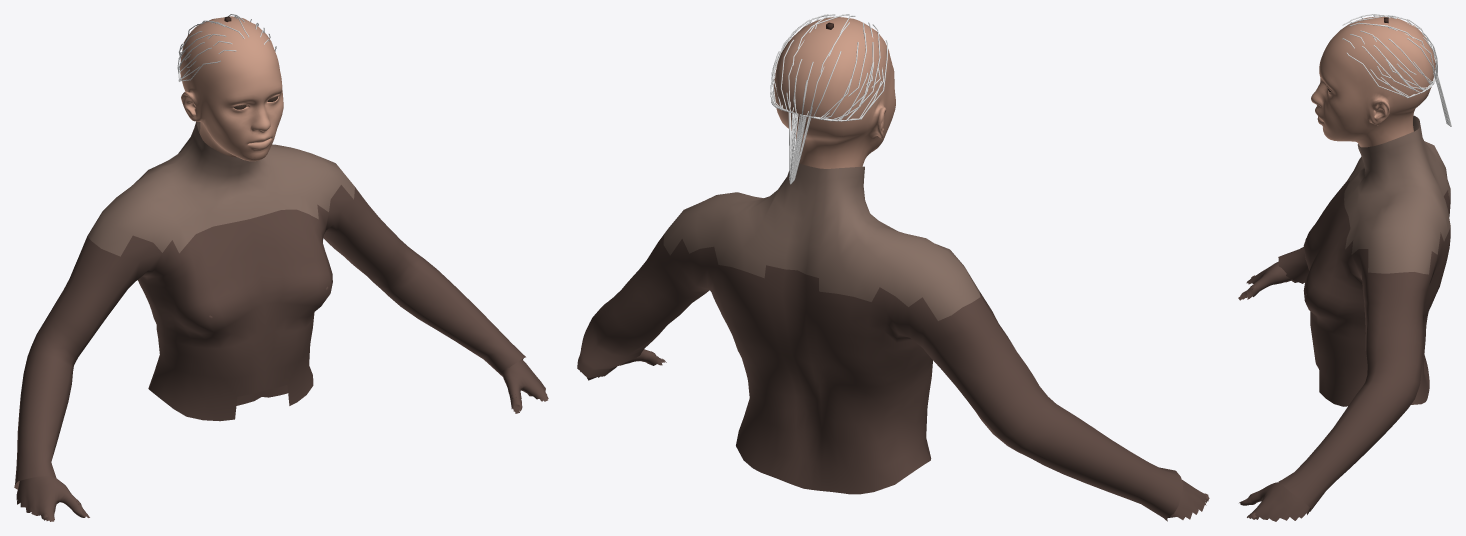
File: avatar_V009_DIAGNOSTICO_20261031.glb
3 renders of one model, left to right at view 1: azimuth 30°, elevation 25°; view 2: azimuth 150°, elevation 25°; view 3: azimuth 270°, elevation 25°, orthographic. The views are drawn at different scales.
Visible parts, largest first — view 1: ARCHIVISTA_NUOVO_RIFERIMENTO_V49, V009_GUIDE_DIAGNOSTIC; view 2: ARCHIVISTA_NUOVO_RIFERIMENTO_V49, V009_GUIDE_DIAGNOSTIC; view 3: ARCHIVISTA_NUOVO_RIFERIMENTO_V49, V009_GUIDE_DIAGNOSTIC.
Part boxes in pixels (x1,y1,x2,y2): ARCHIVISTA_NUOVO_RIFERIMENTO_V49: [14, 16, 548, 521]; V009_GUIDE_DIAGNOSTIC: [177, 14, 276, 81]; ARCHIVISTA_NUOVO_RIFERIMENTO_V49: [577, 17, 1209, 521]; V009_GUIDE_DIAGNOSTIC: [770, 14, 887, 184]; ARCHIVISTA_NUOVO_RIFERIMENTO_V49: [1238, 16, 1450, 521]; V009_GUIDE_DIAGNOSTIC: [1342, 14, 1451, 126].
Size of the model in its own units: 0.9237 by 0.6717 by 0.3397.
